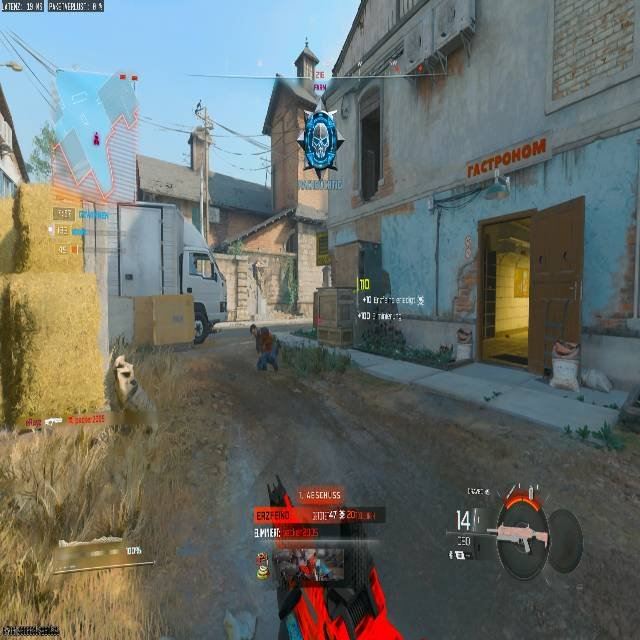player: (250, 324, 279, 372)
